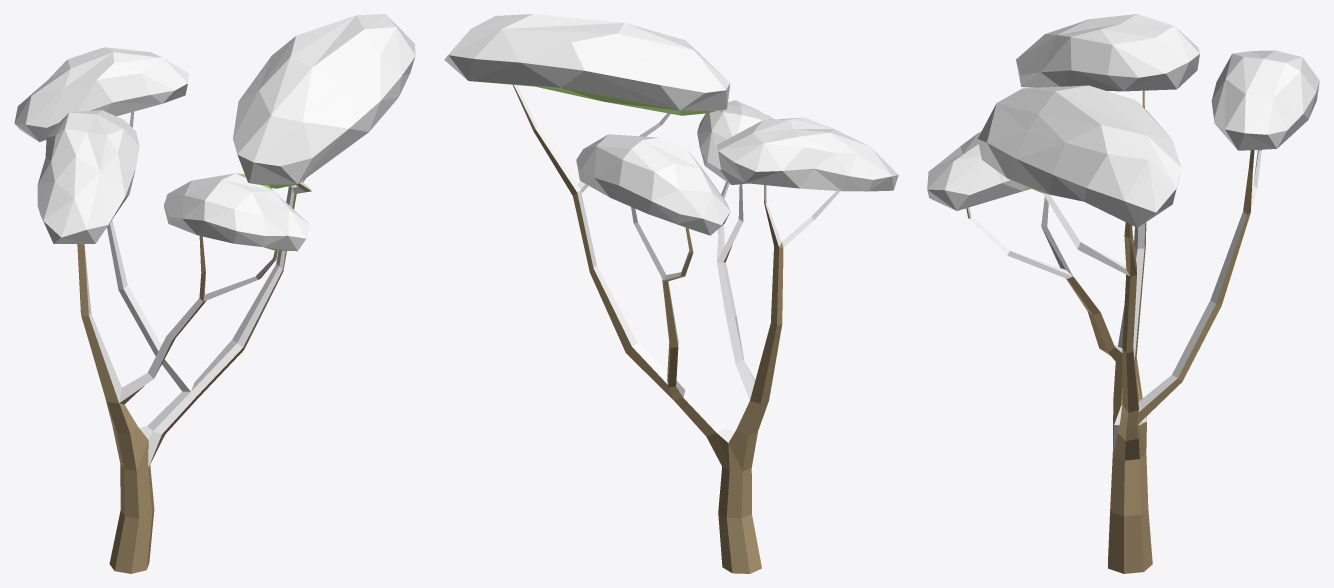
The model's file is Acacia_Tree_l_Snow_02.fbx.
The picture shows the model from 3 angles, left to right: view 1: azimuth 30°, elevation 25°; view 2: azimuth 150°, elevation 25°; view 3: azimuth 270°, elevation 25°; orthographic projection. The views are drawn at different scales.
Parts seen in each view (by area): view 1: Acacia_Tree_l_Snow_02; view 2: Acacia_Tree_l_Snow_02; view 3: Acacia_Tree_l_Snow_02.
Boxes of the visible parts, <box> form: Acacia_Tree_l_Snow_02: <box>14,14,415,573</box>; Acacia_Tree_l_Snow_02: <box>444,14,898,573</box>; Acacia_Tree_l_Snow_02: <box>927,14,1319,573</box>.
Bounding box in the file's own units: 1006 × 1161 × 732.
